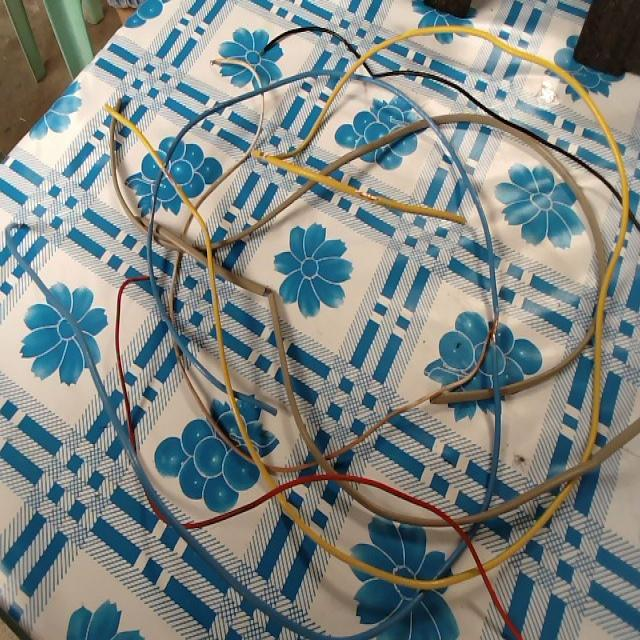-: (488, 306, 505, 342), (355, 186, 384, 206), (262, 284, 276, 305)
